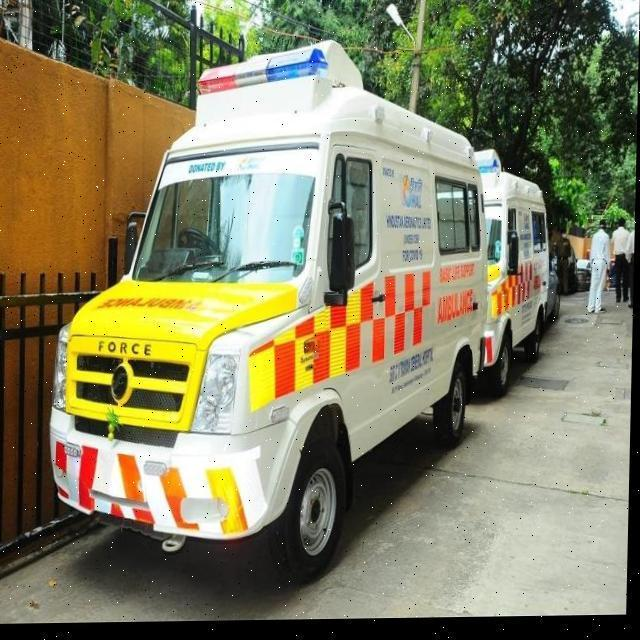Ambulance: (41, 34, 570, 594), (0, 280, 634, 626), (468, 148, 564, 400), (583, 220, 615, 318)
